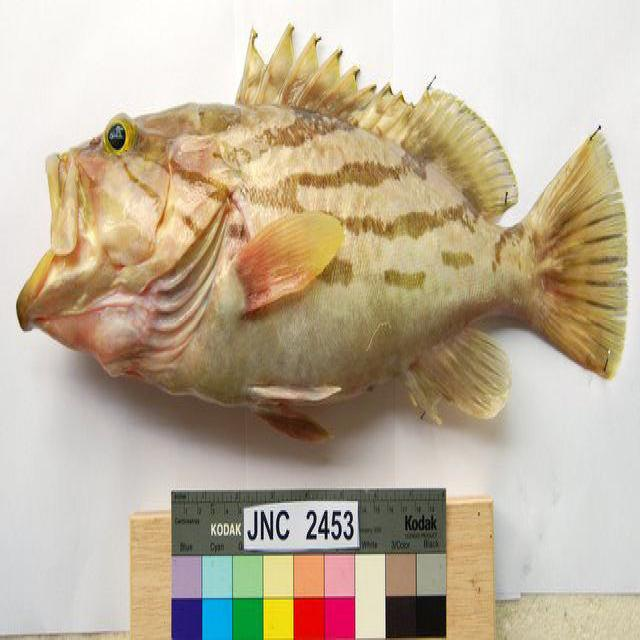ikan: (15, 20, 629, 444)
